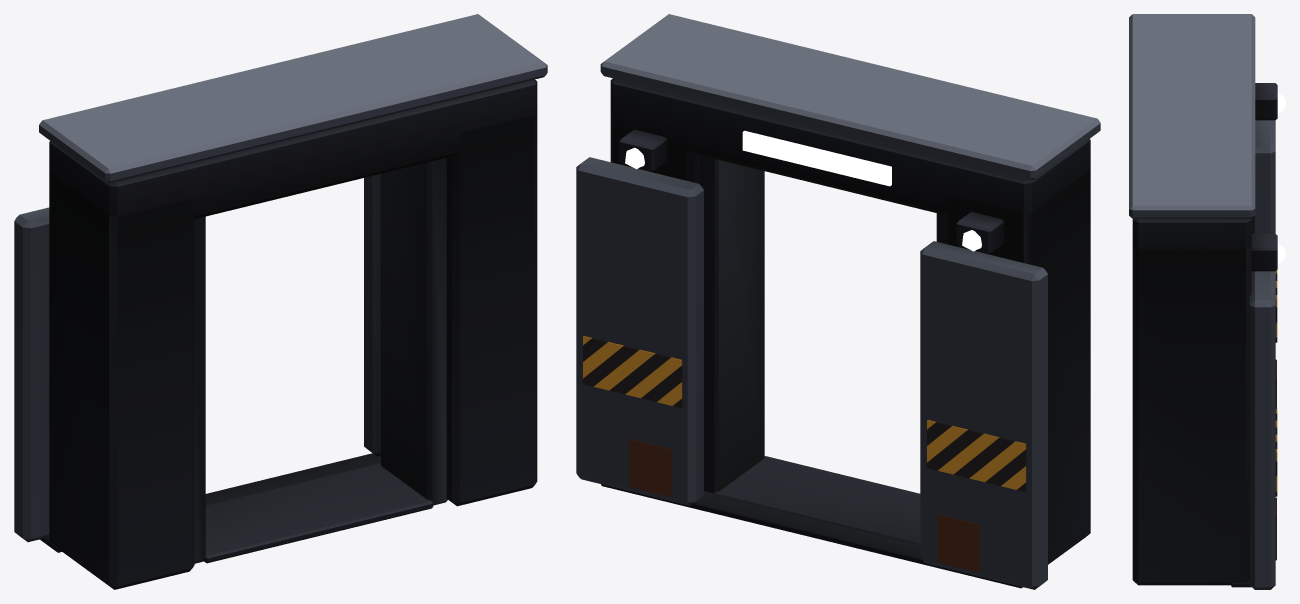
The model's file is Gate.glb.
The picture shows the model from 3 angles, left to right: view 1: azimuth 30°, elevation 25°; view 2: azimuth 150°, elevation 25°; view 3: azimuth 270°, elevation 25°; orthographic projection. The views are drawn at different scales.
Visible parts, largest first — view 1: Body; view 2: Body, Sign_Glow; view 3: Body, Sign_Glow.
Boxes of the visible parts, x1,y1,x2,y2 form: Body: [14, 14, 547, 589]; Body: [576, 14, 1100, 589]; Sign_Glow: [625, 130, 981, 251]; Body: [1129, 14, 1277, 589]; Sign_Glow: [1277, 93, 1285, 263].
Bounding box in the file's own units: 13.2 × 11.4 × 4.22.
